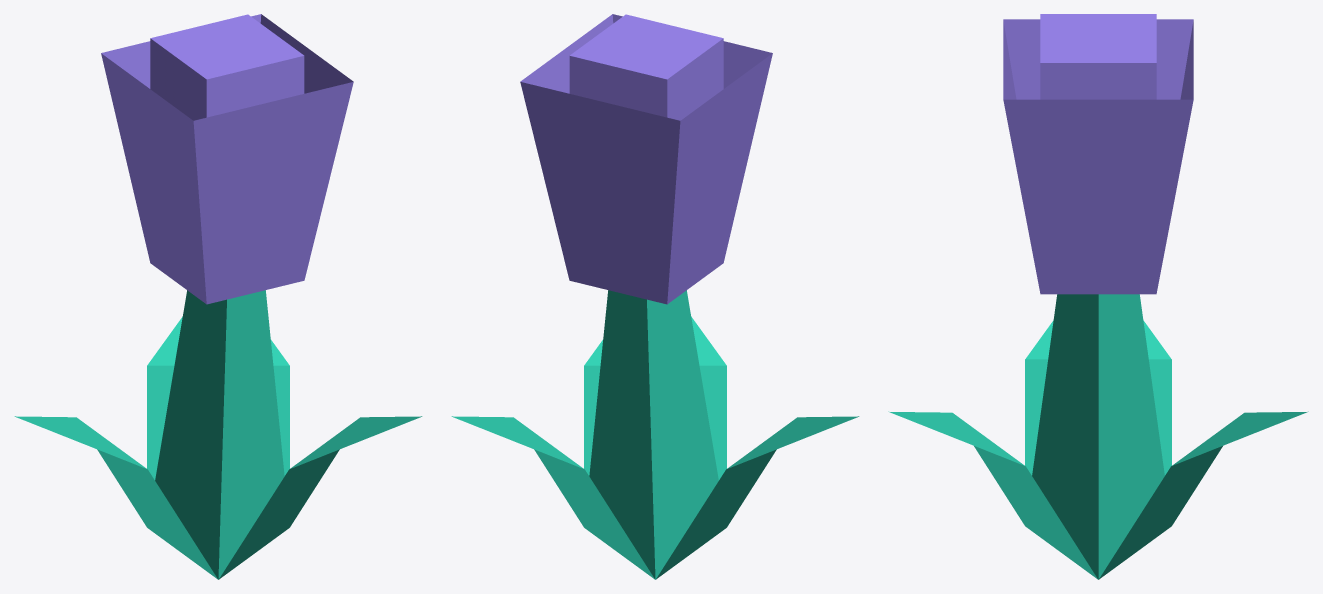
File: flower_purpleA.obj
3 views of the same model, side by side, from view 1: azimuth 30°, elevation 25°; view 2: azimuth 150°, elevation 25°; view 3: azimuth 270°, elevation 25° (orthographic). The views are drawn at different scales.
Visible parts, largest first — view 1: Mesh flower_purpleA-1, Mesh flower_purpleA-0; view 2: Mesh flower_purpleA-1, Mesh flower_purpleA-0; view 3: Mesh flower_purpleA-1, Mesh flower_purpleA-0.
Boxes of the visible parts, box(x1,y1,x2,y2) form: Mesh flower_purpleA-1: box(101, 14, 353, 304); Mesh flower_purpleA-0: box(14, 290, 422, 579); Mesh flower_purpleA-1: box(520, 14, 772, 304); Mesh flower_purpleA-0: box(451, 290, 859, 579); Mesh flower_purpleA-1: box(1003, 14, 1193, 294); Mesh flower_purpleA-0: box(888, 294, 1308, 579).
Size of the model in its own units: 0.1591 by 0.2425 by 0.1811.
